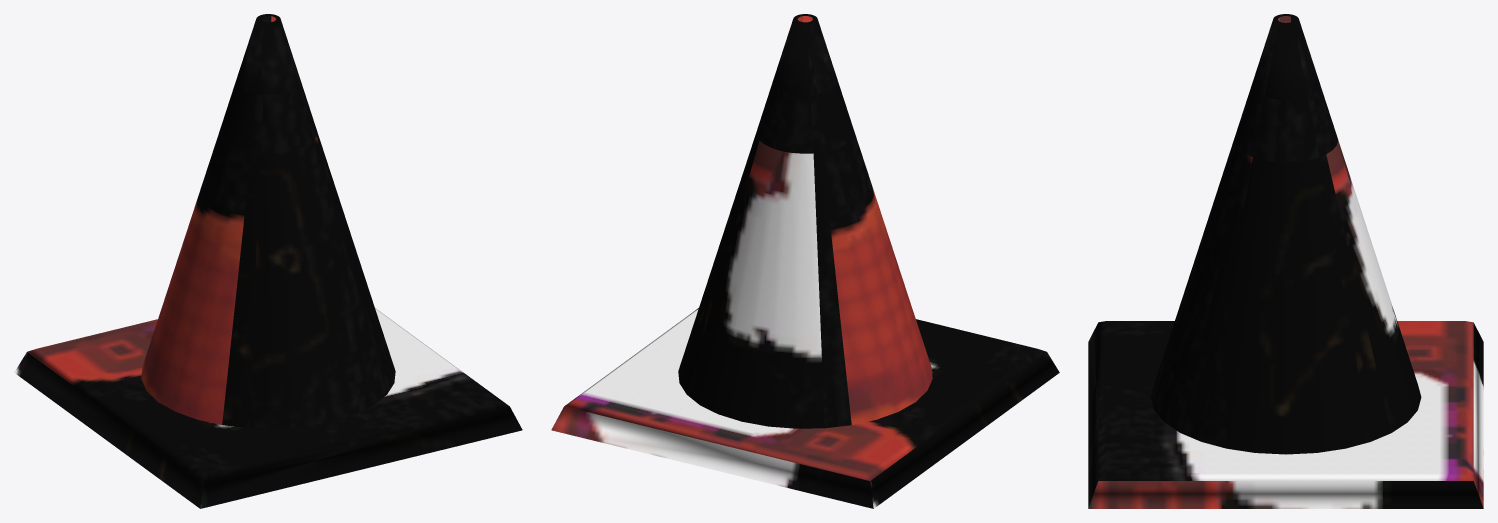
File: TrafficCone.obj
3 views of the same model, side by side, from view 1: azimuth 30°, elevation 25°; view 2: azimuth 150°, elevation 25°; view 3: azimuth 270°, elevation 25° (orthographic). The views are drawn at different scales.
Visible parts, largest first — view 1: Handle1; view 2: Handle1; view 3: Handle1.
Boxes of the visible parts, x1,y1,x2,y2 form: Handle1: (14, 14, 522, 508); Handle1: (551, 14, 1059, 508); Handle1: (1088, 14, 1483, 508).
Bounding box in the file's own units: 1.88 × 2.14 × 1.88.
1 material, 1 textured.
